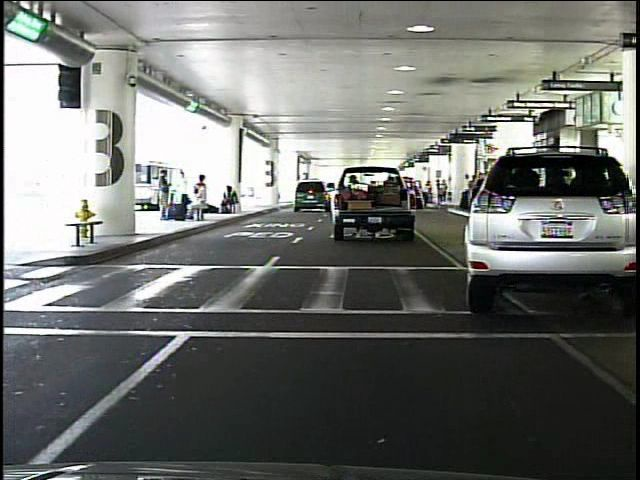person: (155, 167, 175, 220)
